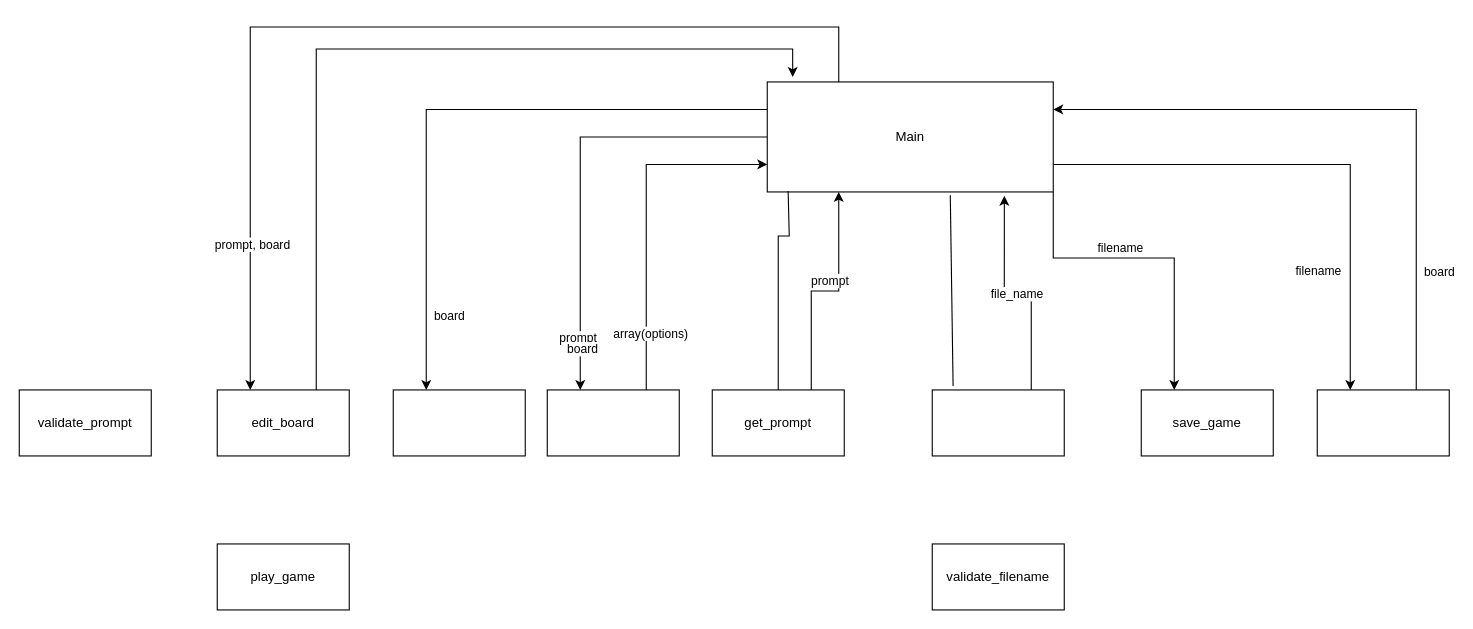
The diagram is 1473 pixels wide and 629 high, and some of its shapes have lost their labels. The centre of each missing label's shape, as x and y in pixels:
"display_board" goes at point 458,422.
"get_filename" goes at point 997,422.
"hint" goes at point 612,422.
"load_board" goes at point 1382,422.
